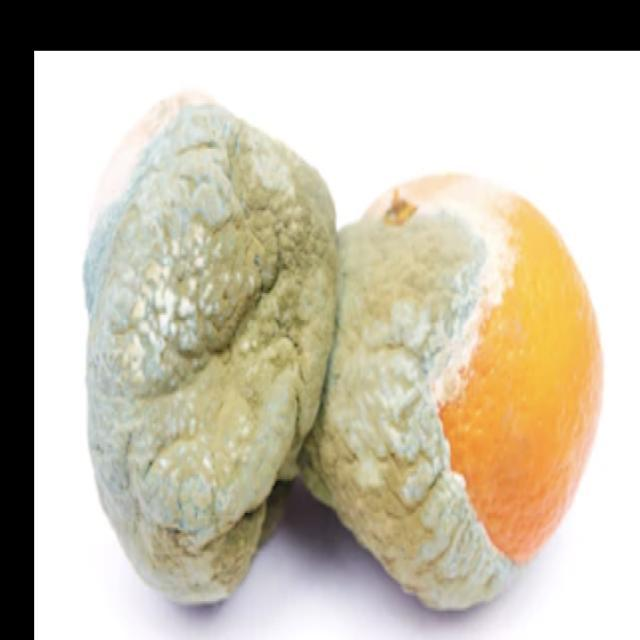sangat-busuk: (300, 175, 602, 608), (86, 98, 338, 601)
